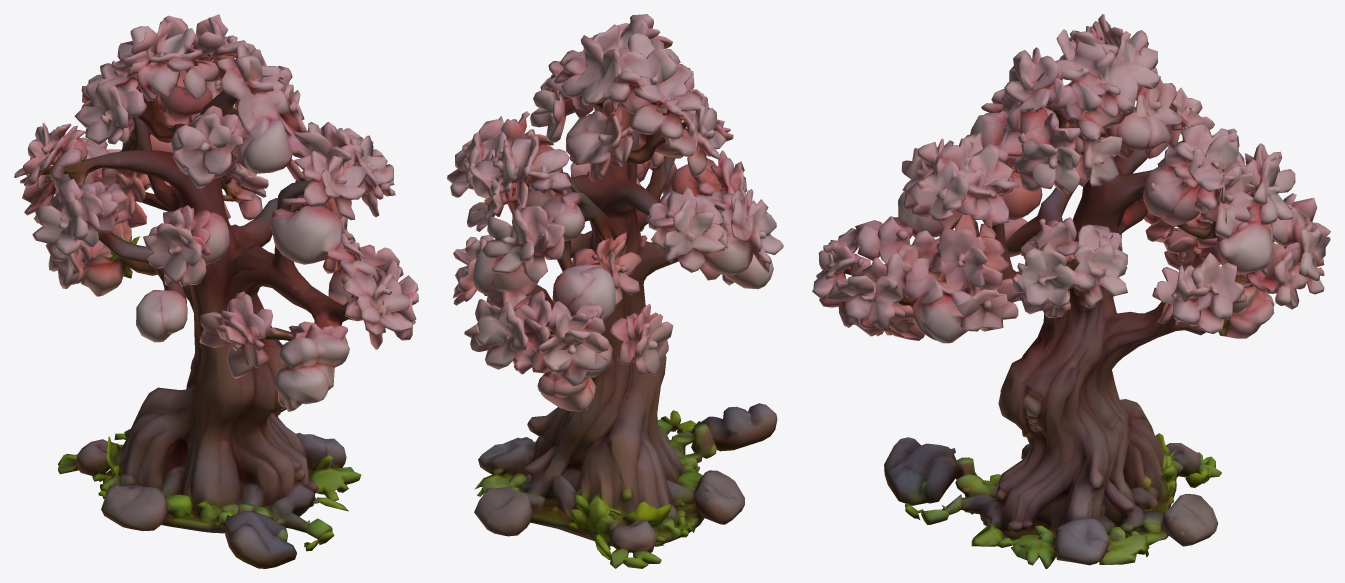
Rendered from spirit_tree.glb.
3 renders of one model, left to right at view 1: azimuth 30°, elevation 25°; view 2: azimuth 150°, elevation 25°; view 3: azimuth 270°, elevation 25°, orthographic.
Parts seen in each view (by area): view 1: tripo_node_e71edc2f-21b6-4ae2-81ca-82bee1dfc00c; view 2: tripo_node_e71edc2f-21b6-4ae2-81ca-82bee1dfc00c; view 3: tripo_node_e71edc2f-21b6-4ae2-81ca-82bee1dfc00c.
Part boxes in pixels (box(x1,y1,x2,y2)): tripo_node_e71edc2f-21b6-4ae2-81ca-82bee1dfc00c: box(14, 14, 418, 568); tripo_node_e71edc2f-21b6-4ae2-81ca-82bee1dfc00c: box(447, 14, 783, 568); tripo_node_e71edc2f-21b6-4ae2-81ca-82bee1dfc00c: box(812, 14, 1330, 568).
Size of the model in its own units: 0.727 by 1 by 0.9947.
Materials: 1 (1 with a texture image).
